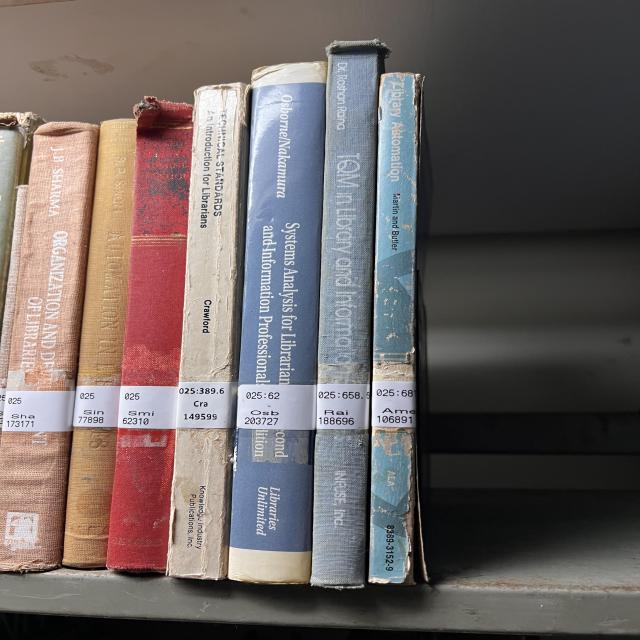Book: (228, 64, 327, 582), (0, 122, 98, 571), (312, 40, 388, 589), (167, 82, 250, 580), (107, 98, 193, 572), (63, 119, 137, 569), (368, 72, 420, 584)
Label: (237, 384, 317, 430), (2, 390, 75, 432), (177, 382, 237, 429), (118, 386, 178, 429), (317, 384, 370, 430), (73, 385, 120, 428), (372, 381, 415, 428)
